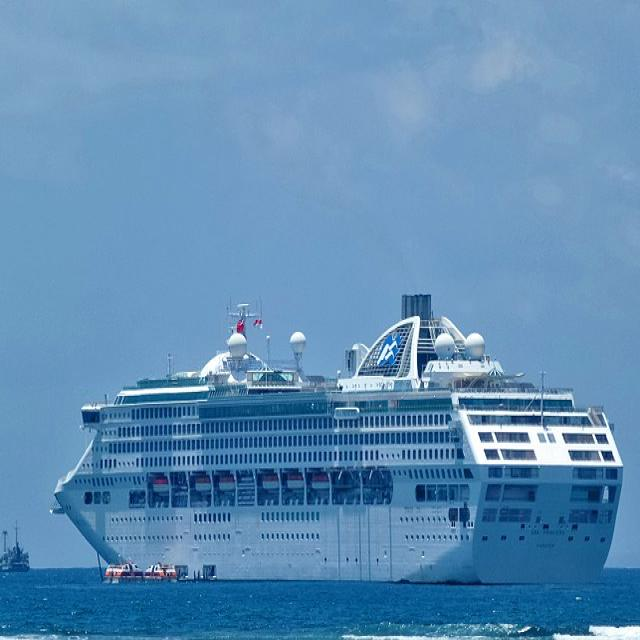passenger ship: (44, 288, 614, 583)
